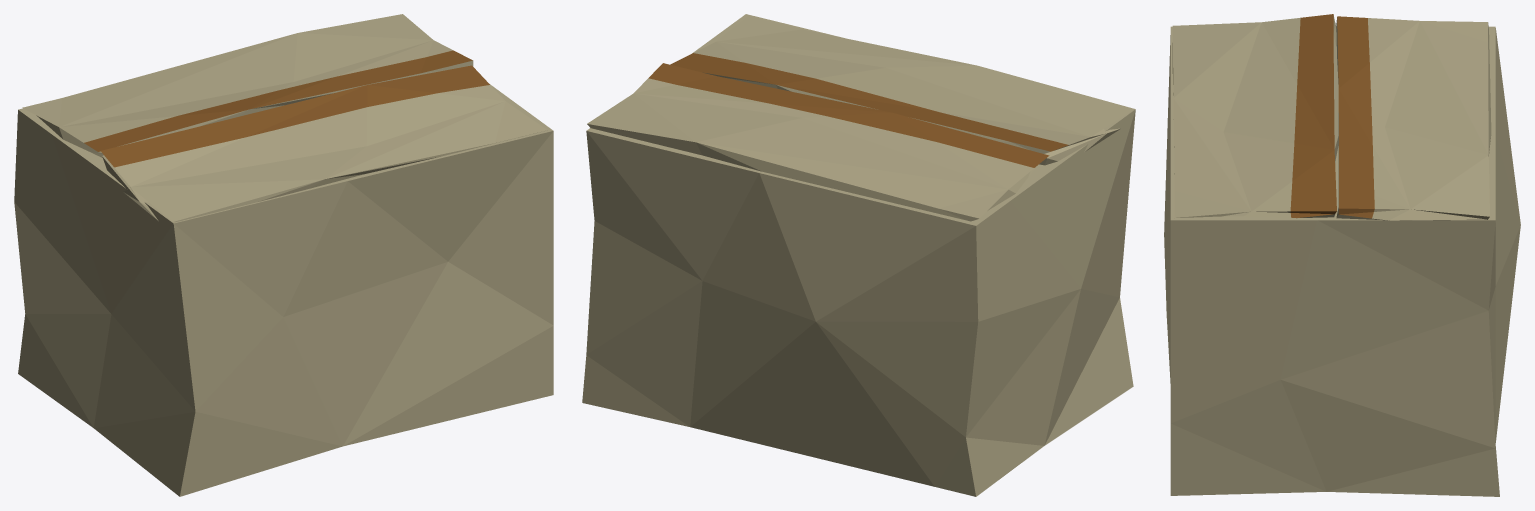
File: carton.fbx
The picture shows the model from 3 angles, left to right: view 1: azimuth 30°, elevation 25°; view 2: azimuth 150°, elevation 25°; view 3: azimuth 270°, elevation 25°; orthographic projection. The views are drawn at different scales.
Visible parts, largest first — view 1: Cube.002; view 2: Cube.002; view 3: Cube.002.
Part boxes in pixels (x1,y1,x2,y2): Cube.002: (14, 14, 553, 496); Cube.002: (582, 14, 1135, 496); Cube.002: (1164, 14, 1520, 496).
Bounding box in the file's own units: 391 × 280 × 299.
